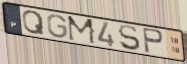4: (96, 20, 116, 49)
G: (47, 13, 69, 39)
M: (66, 15, 98, 46)
P: (141, 26, 165, 55)
Q: (22, 9, 46, 37)
S: (117, 24, 142, 52)
